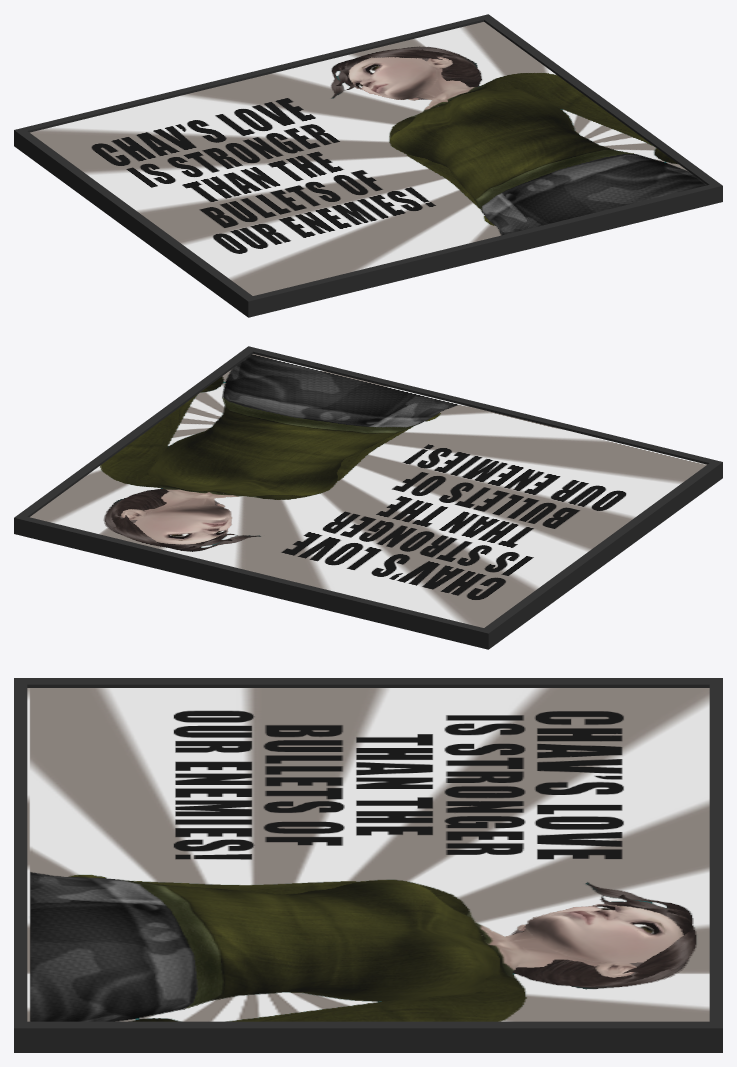
3 views of the same model, one above another, from view 1: azimuth 30°, elevation 25°; view 2: azimuth 150°, elevation 25°; view 3: azimuth 270°, elevation 25° (orthographic). The views are drawn at different scales.
Visible parts, largest first — view 1: Plane; view 2: Plane; view 3: Plane.
Boxes of the visible parts, x1,y1,x2,y2 form: Plane: (14, 14, 722, 317); Plane: (14, 346, 722, 649); Plane: (14, 678, 722, 1052).
Bounding box in the file's own units: 1610 × 52.42 × 1377.
2 materials, 1 textured.
